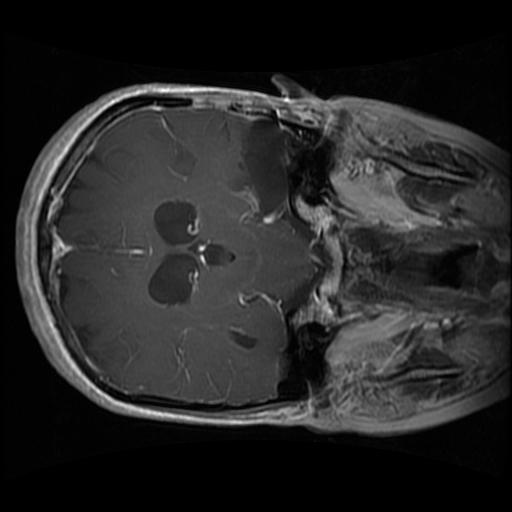glioma: (231, 118, 293, 227)
